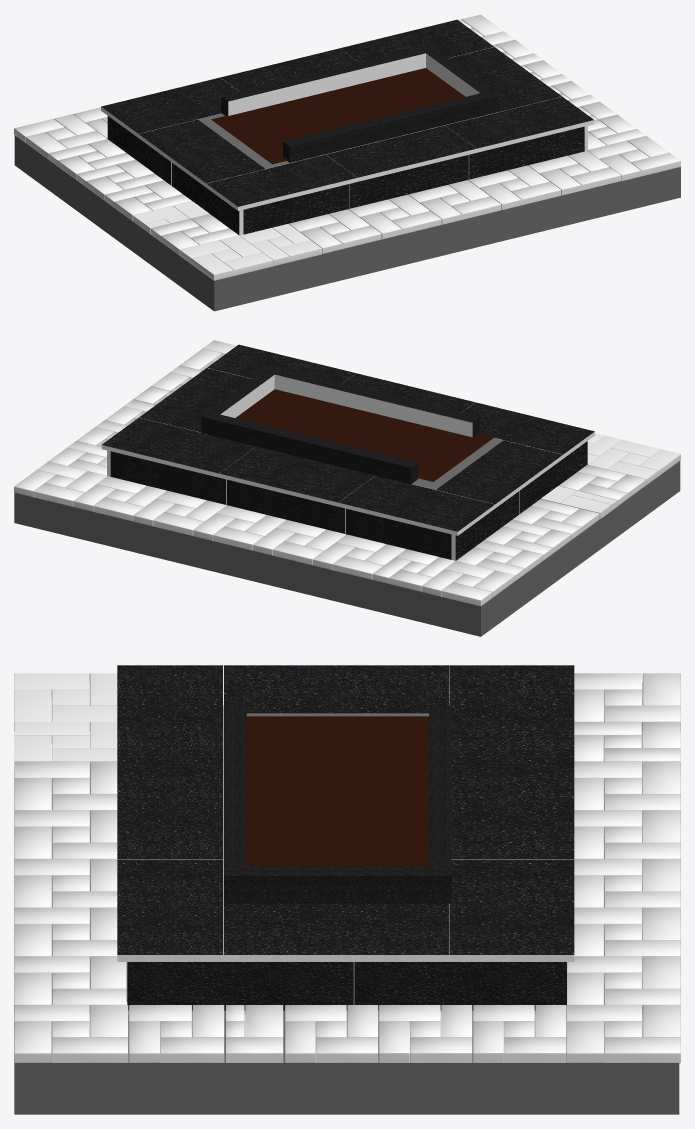
Rendered from 120-180-15 ччерн [u_1_u].glb.
3 renders of one model, top to bottom at view 1: azimuth 30°, elevation 25°; view 2: azimuth 150°, elevation 25°; view 3: azimuth 270°, elevation 25°, orthographic. The views are drawn at different scales.
Visible parts, largest first — view 1: Куб.201, Плоскость.213, Плоскость.228, Plane.006, Куб.206, Куб.202, Куб.204, Куб.205, Плоскость.221, Плоскость.211, Плоскость.222, Плоскость.229 (+13 smaller); view 2: Куб.201, Плоскость.213, Плоскость.212, Куб.200, Plane.006, Куб.204, Куб.202, Куб.205, Плоскость.222, Плоскость.214, Плоскость.221, Плоскость.220 (+13 smaller); view 3: Куб.201, Плоскость.213, Plane.006, Плоскость.212, Плоскость.228, Куб.199, Куб.203, Плоскость.214, Плоскость.211, Плоскость.216, Плоскость.217, Плоскость.218 (+9 smaller).
Boxes of the visible parts, x1,y1,x2,y2 form: Куб.201: (101, 19, 594, 210); Плоскость.213: (14, 135, 680, 311); Плоскость.228: (289, 150, 621, 253); Plane.006: (211, 68, 465, 164); Куб.206: (243, 126, 584, 234); Куб.202: (283, 93, 487, 162); Куб.204: (221, 48, 425, 115); Куб.205: (107, 116, 243, 235); Плоскость.221: (179, 235, 273, 280); Плоскость.211: (587, 136, 680, 181); Плоскость.222: (14, 114, 106, 158); Плоскость.229: (240, 224, 321, 266); Куб.201: (101, 344, 594, 535); Плоскость.213: (14, 461, 680, 636); Плоскость.212: (73, 476, 406, 579); Куб.200: (110, 451, 451, 559); Plane.006: (235, 389, 494, 481); Куб.204: (211, 414, 417, 483); Куб.202: (274, 369, 479, 437); Куб.205: (452, 441, 587, 560); Плоскость.222: (421, 561, 515, 606); Плоскость.214: (14, 461, 106, 506); Плоскость.221: (587, 439, 680, 484); Плоскость.220: (373, 549, 455, 591); Куб.201: (117, 665, 574, 961); Плоскость.213: (14, 771, 679, 1114); Plane.006: (246, 716, 428, 866); Плоскость.212: (567, 761, 680, 1005); Плоскость.228: (14, 761, 128, 1013); Куб.199: (127, 962, 566, 1010); Куб.203: (223, 866, 451, 903); Плоскость.214: (566, 1005, 680, 1063); Плоскость.211: (14, 1005, 128, 1062); Плоскость.216: (129, 1005, 224, 1062); Плоскость.217: (379, 1005, 472, 1062); Плоскость.218: (473, 1005, 566, 1062).
Bounding box in the file's own units: 2.36 × 0.4125 × 1.75.
7 materials, 2 textured.
